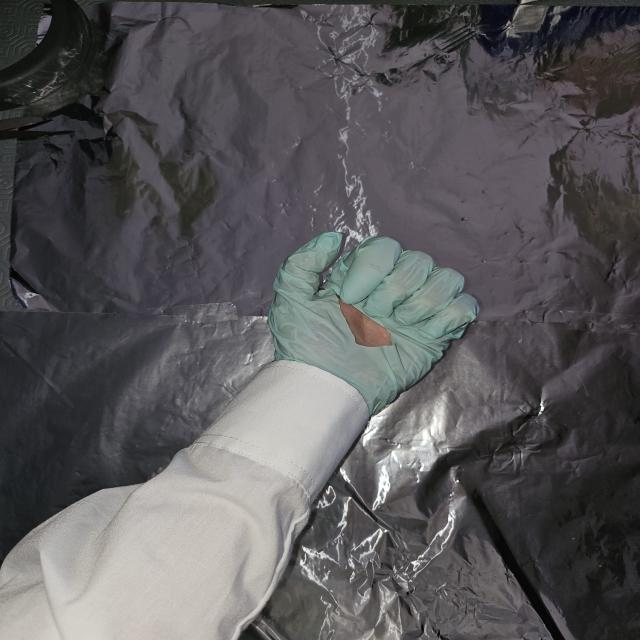gloves_damaged: (270, 227, 483, 417)
